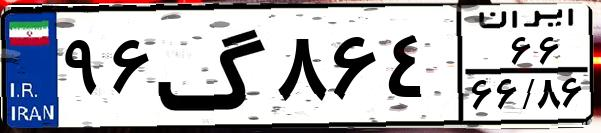4: (385, 28, 445, 110)
6: (330, 28, 385, 110), (110, 28, 156, 98), (560, 70, 590, 125), (537, 27, 568, 80), (508, 27, 537, 80), (470, 70, 495, 125), (495, 70, 520, 125)
8: (270, 28, 330, 110), (535, 70, 560, 125)
9: (57, 26, 110, 100)
گ: (156, 12, 270, 120)
